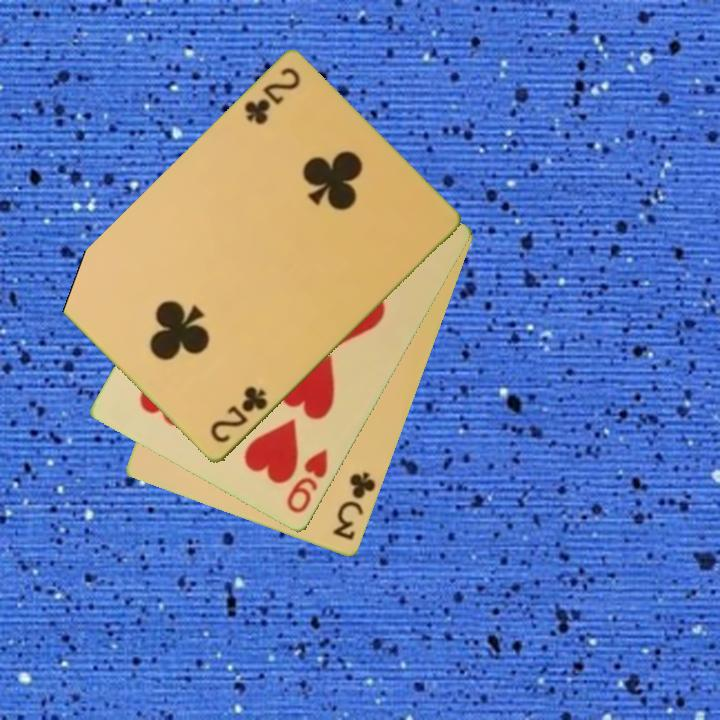2c: (207, 383, 271, 447), (240, 64, 303, 129)
3c: (329, 469, 379, 544)
9h: (283, 446, 331, 517)
